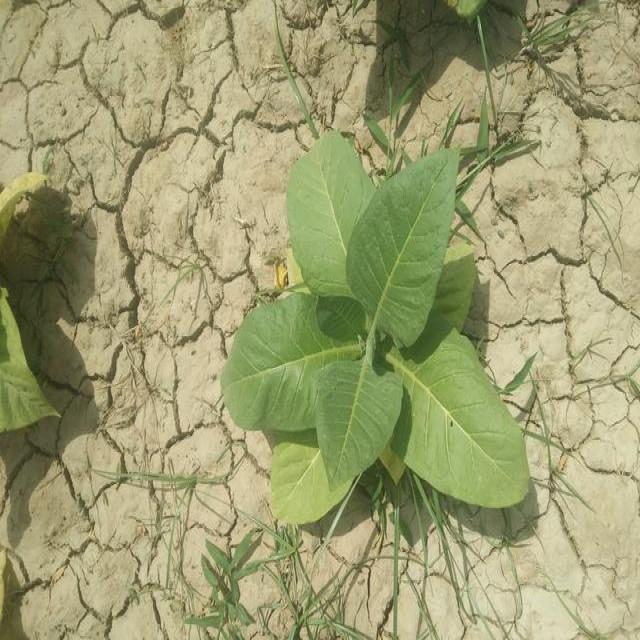crop: (228, 130, 526, 525)
